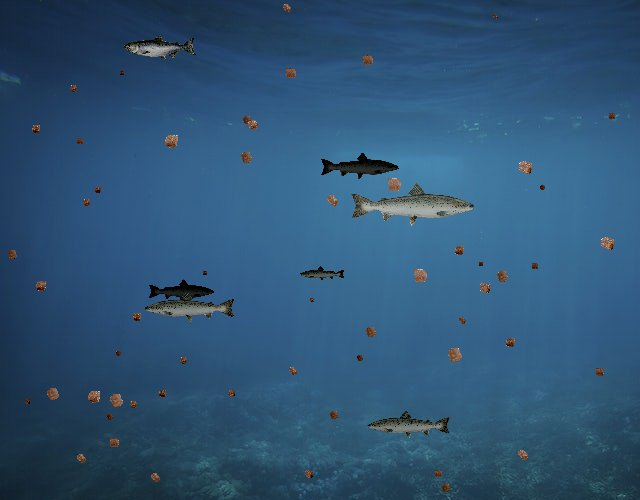Fish: (348, 181, 477, 227), (143, 291, 237, 325), (366, 409, 452, 440), (319, 151, 400, 180), (124, 35, 197, 61), (147, 279, 215, 303), (299, 265, 346, 282)
Pellet: (157, 127, 185, 155), (320, 188, 344, 212), (234, 145, 258, 169), (241, 114, 264, 137), (2, 245, 23, 266), (78, 194, 94, 210), (536, 181, 549, 194), (21, 395, 33, 407)
